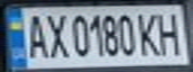0: (66, 10, 90, 58), (118, 10, 139, 57)
1: (87, 11, 106, 57)
8: (100, 10, 121, 57)
A: (21, 10, 48, 60)
H: (154, 8, 187, 56)
K: (136, 9, 163, 57)
X: (42, 9, 69, 60)
